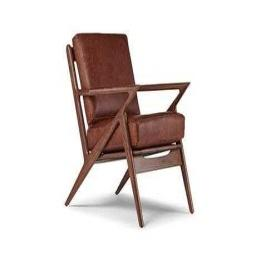Chair: (64, 33, 195, 229)
